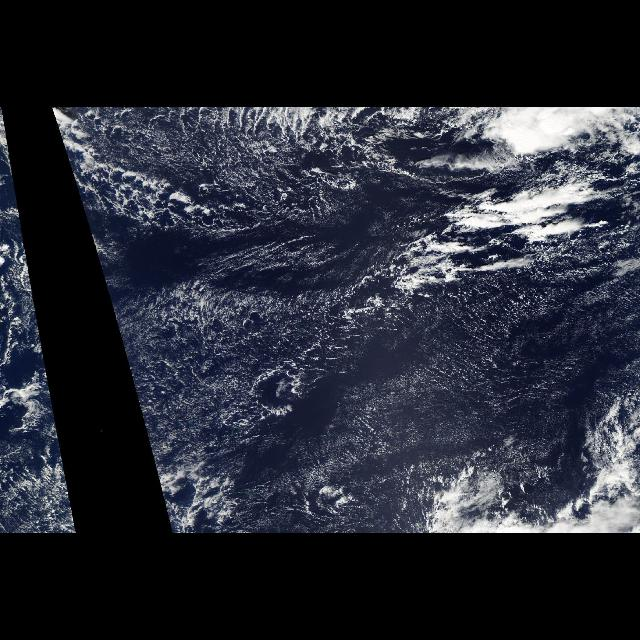Gravel: (56, 107, 408, 247), (109, 268, 337, 472)
Sugar: (121, 243, 638, 502)
